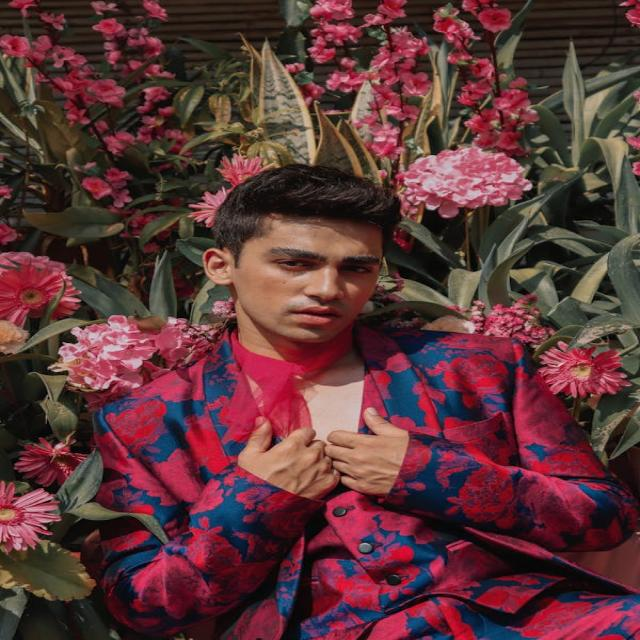Real human 2: (86, 158, 640, 640)
